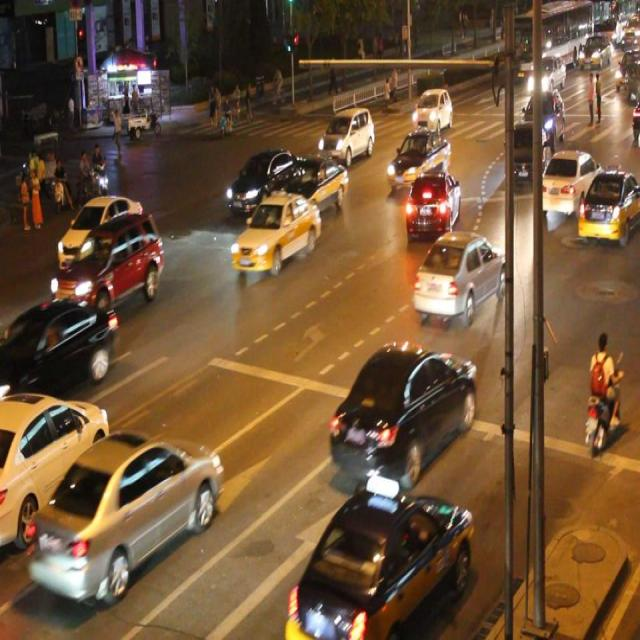car: (29, 428, 222, 597), (286, 489, 471, 640), (328, 342, 476, 484), (0, 390, 110, 524), (0, 295, 116, 395), (50, 210, 164, 306), (412, 229, 506, 322), (230, 193, 320, 273), (58, 194, 143, 270), (227, 150, 301, 213), (575, 168, 640, 237), (535, 148, 603, 212), (277, 152, 347, 212), (403, 167, 458, 241), (386, 128, 449, 188), (318, 106, 374, 161), (503, 120, 544, 184), (410, 86, 452, 132)
